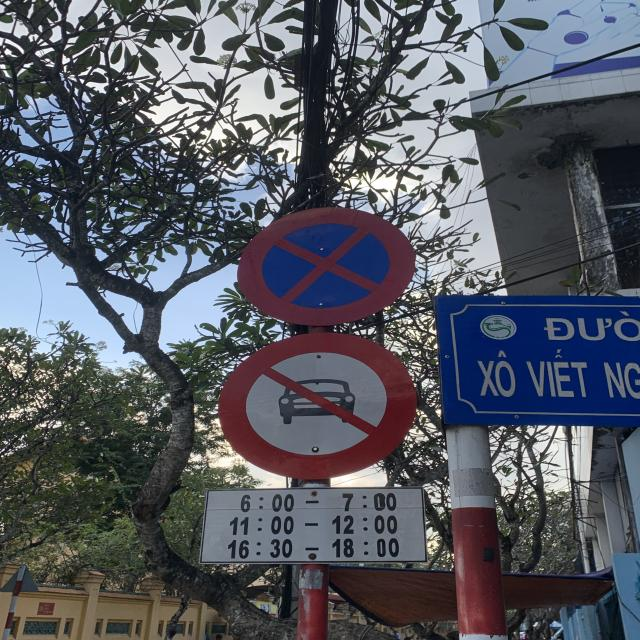Cam_Dung_Va_Dau_Xe: (238, 207, 415, 328)
Cam_O_To: (217, 332, 418, 481)
